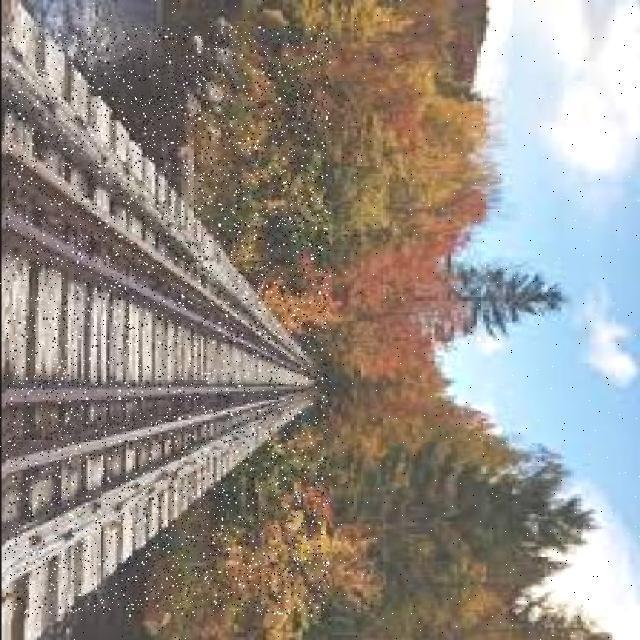rail: (5, 26, 328, 616)
